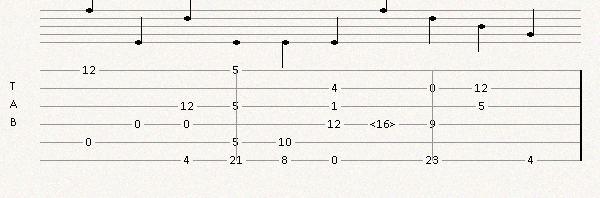0: (85, 136, 96, 148), (134, 118, 145, 130), (183, 118, 194, 130), (331, 154, 342, 166), (429, 82, 440, 94)
1: (331, 100, 342, 112)
10: (278, 136, 296, 148)
12: (82, 64, 100, 76), (180, 100, 198, 112), (327, 118, 345, 130), (474, 82, 492, 94)
21: (229, 154, 247, 166)
23: (425, 154, 443, 166)
4: (183, 154, 194, 166), (331, 82, 342, 94), (527, 154, 538, 166)
5: (232, 100, 243, 112), (232, 64, 243, 76), (232, 136, 243, 148), (478, 100, 489, 112)
8: (281, 154, 292, 166)
9: (429, 118, 440, 130)
harmonic: (370, 118, 400, 130)
